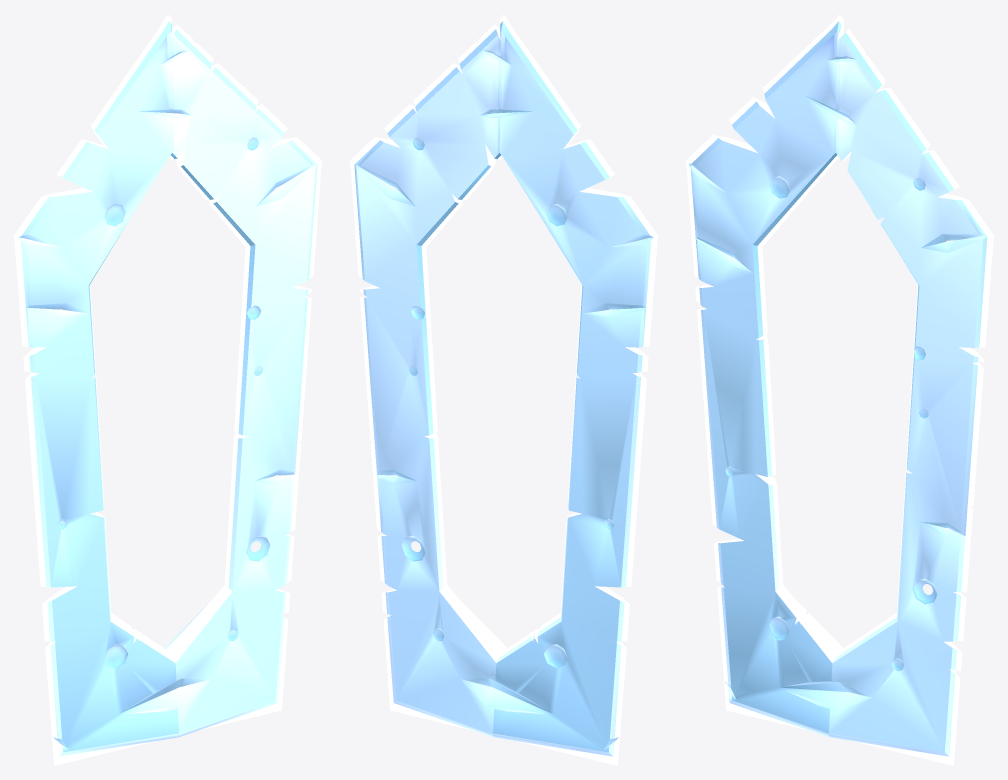
The model's file is steel_blade_bubbles_046.glb.
3 renders of one model, left to right at view 1: azimuth 30°, elevation 25°; view 2: azimuth 150°, elevation 25°; view 3: azimuth 330°, elevation 25°, orthographic.
Parts seen in each view (by area): view 1: steel_blade_bubbles.046; view 2: steel_blade_bubbles.046; view 3: steel_blade_bubbles.046.
Boxes of the visible parts, left/top/right/bottom form: steel_blade_bubbles.046: left=14, top=14, right=321, bottom=765; steel_blade_bubbles.046: left=350, top=14, right=657, bottom=765; steel_blade_bubbles.046: left=686, top=14, right=993, bottom=765.
Bounding box in the file's own units: 5.08 × 11.42 × 0.6326.
1 material, 1 textured.
